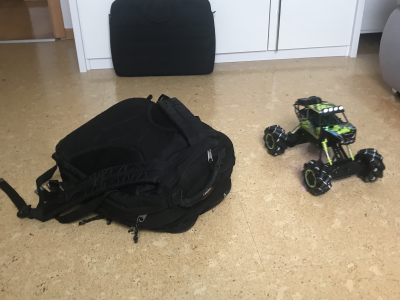remote control car: (262, 92, 387, 197)
